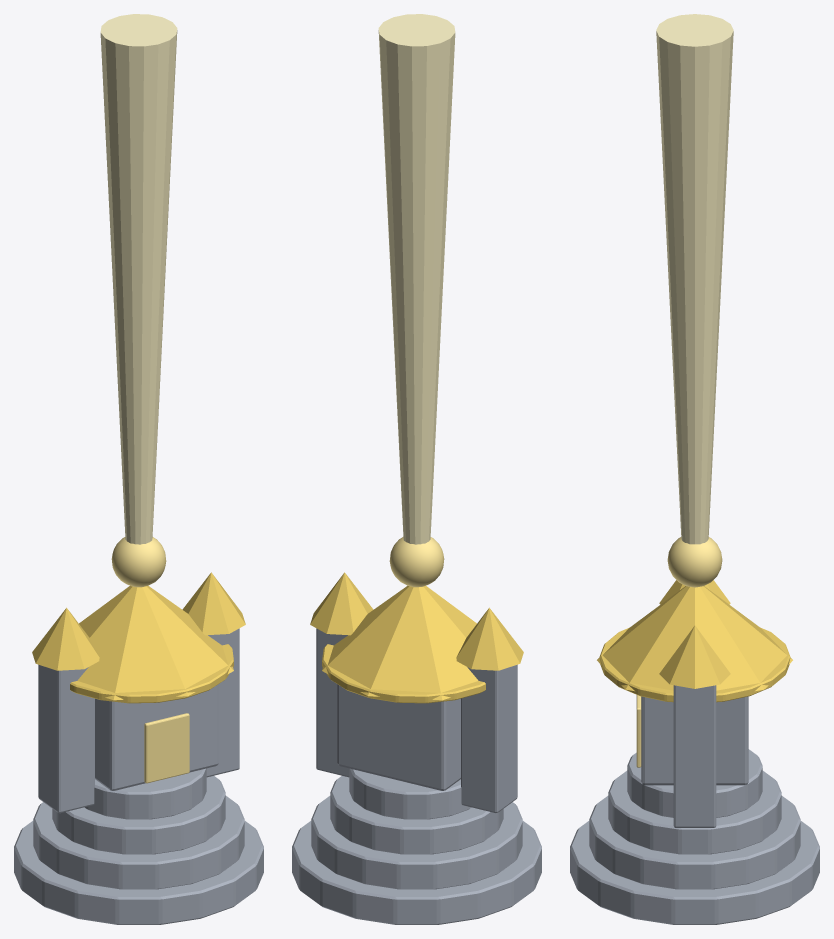
Rendered from 08_Templo.fbx.
3 renders of one model, left to right at view 1: azimuth 30°, elevation 25°; view 2: azimuth 150°, elevation 25°; view 3: azimuth 270°, elevation 25°, orthographic.
Parts seen in each view (by area): view 1: Tpl_Feixe, Tpl_Telhado, Tpl_Plat0, Tpl_Plat1, Tpl_Torre-1, Tpl_Corpo, Tpl_Plat2, Tpl_Plat3, Tpl_Luz, Tpl_Torre1, Tpl_TorreT-1, Tpl_TorreT1 (+2 smaller); view 2: Tpl_Feixe, Tpl_Telhado, Tpl_Plat0, Tpl_Corpo, Tpl_Plat1, Tpl_Torre-1, Tpl_Plat2, Tpl_Plat3, Tpl_Torre1, Tpl_TorreT-1, Tpl_TorreT1, Tpl_Nucleo (+1 smaller); view 3: Tpl_Feixe, Tpl_Plat0, Tpl_Telhado, Tpl_Plat1, Tpl_Plat2, Tpl_Torre1, Tpl_Corpo, Tpl_Plat3, Tpl_TorreT1, Tpl_Anel, Tpl_Nucleo.
Boxes of the visible parts, x1,y1,x2,y2 form: Tpl_Feixe: (100,14,177,544); Tpl_Telhado: (77,585,233,700); Tpl_Plat0: (14,821,263,924); Tpl_Plat1: (33,796,244,889); Tpl_Torre-1: (38,664,94,813); Tpl_Corpo: (95,684,218,790); Tpl_Plat2: (52,776,225,854); Tpl_Plat3: (84,768,206,819); Tpl_Luz: (144,713,189,783); Tpl_Torre1: (206,628,239,777); Tpl_TorreT-1: (32,607,99,670); Tpl_TorreT1: (182,572,245,635); Tpl_Feixe: (378,14,455,544); Tpl_Telhado: (322,585,478,700); Tpl_Plat0: (292,821,541,924); Tpl_Corpo: (337,684,460,790); Tpl_Plat1: (311,796,522,889); Tpl_Torre-1: (461,664,517,813); Tpl_Plat2: (330,776,503,854); Tpl_Plat3: (349,768,471,819); Tpl_Torre1: (316,628,349,777); Tpl_TorreT-1: (456,607,523,670); Tpl_TorreT1: (310,572,373,635); Tpl_Nucleo: (389,537,444,587); Tpl_Feixe: (656,14,733,544); Tpl_Plat0: (570,821,819,924); Tpl_Telhado: (597,586,792,691); Tpl_Plat1: (589,796,800,889); Tpl_Plat2: (608,770,781,854); Tpl_Torre1: (673,685,716,827); Tpl_Corpo: (641,696,748,785); Tpl_Plat3: (627,749,762,817); Tpl_TorreT1: (659,625,730,688); Tpl_Anel: (599,627,790,702); Tpl_Nucleo: (667,537,722,587).
Bounding box in the file's own units: 4136 × 15600 × 4188.
